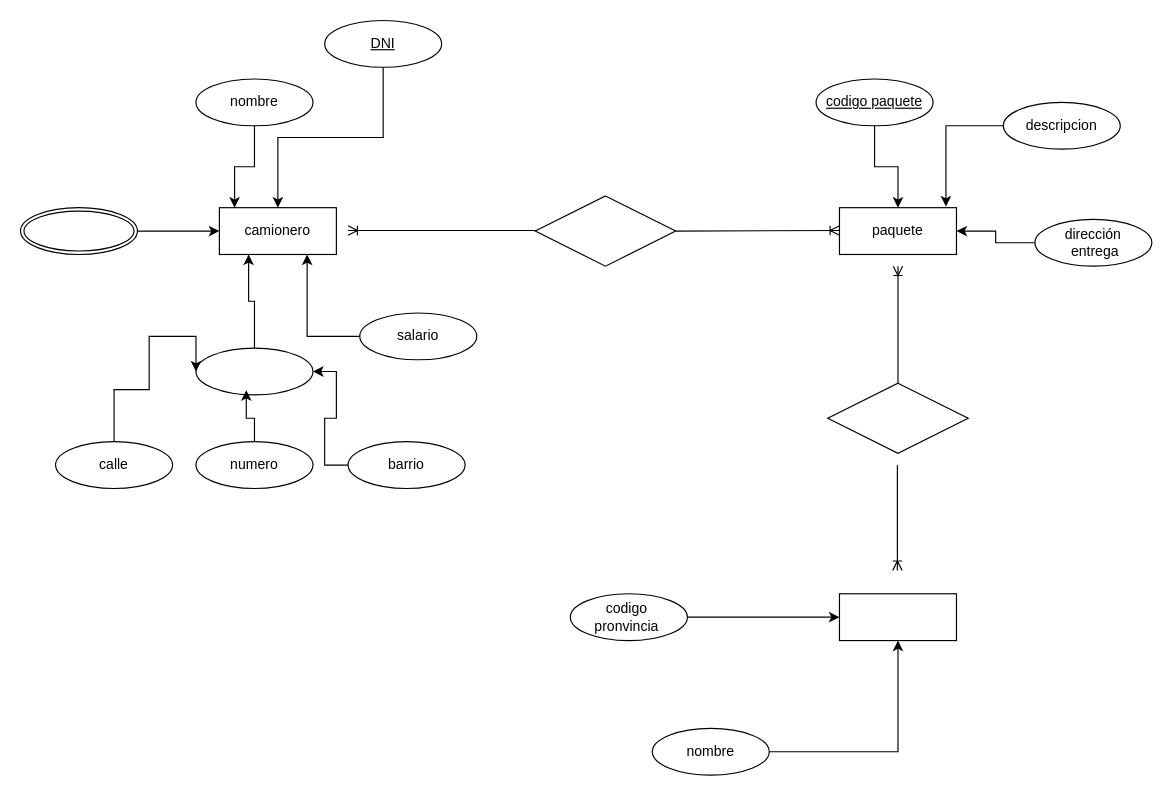
Image size: 1172x796. Some labels were removed from this diagram. The centre of each missing label's shape, as x and y in pixels:
dirección: (254,371)
envio: (897,417)
provincia: (897,617)
telefono: (78,230)
transporta: (605,230)
